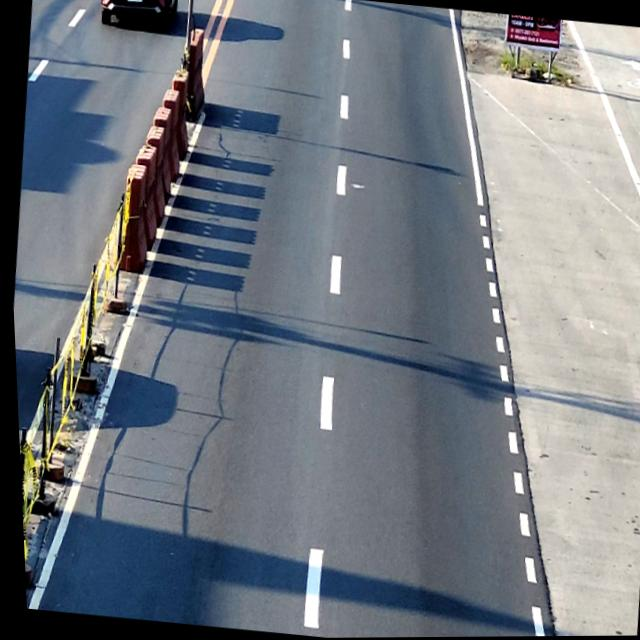Car: (98, 0, 180, 31)
License-Plate: (126, 0, 143, 3)
